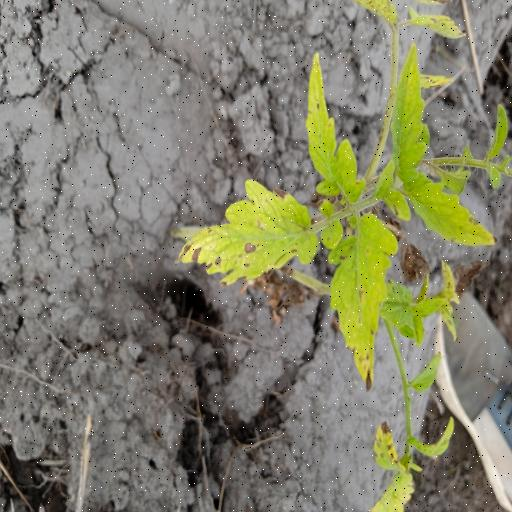Tomato_Brown_Spots: (174, 176, 323, 290), (323, 213, 404, 397), (303, 53, 365, 205), (407, 175, 500, 250), (384, 42, 429, 180)
